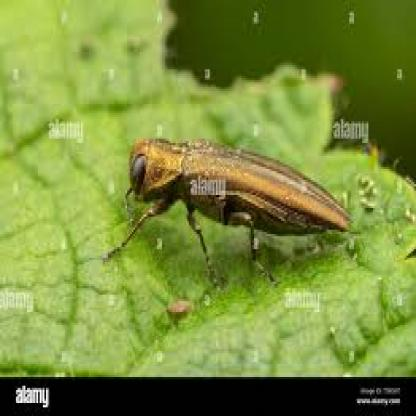sawfly: (110, 124, 353, 298)
